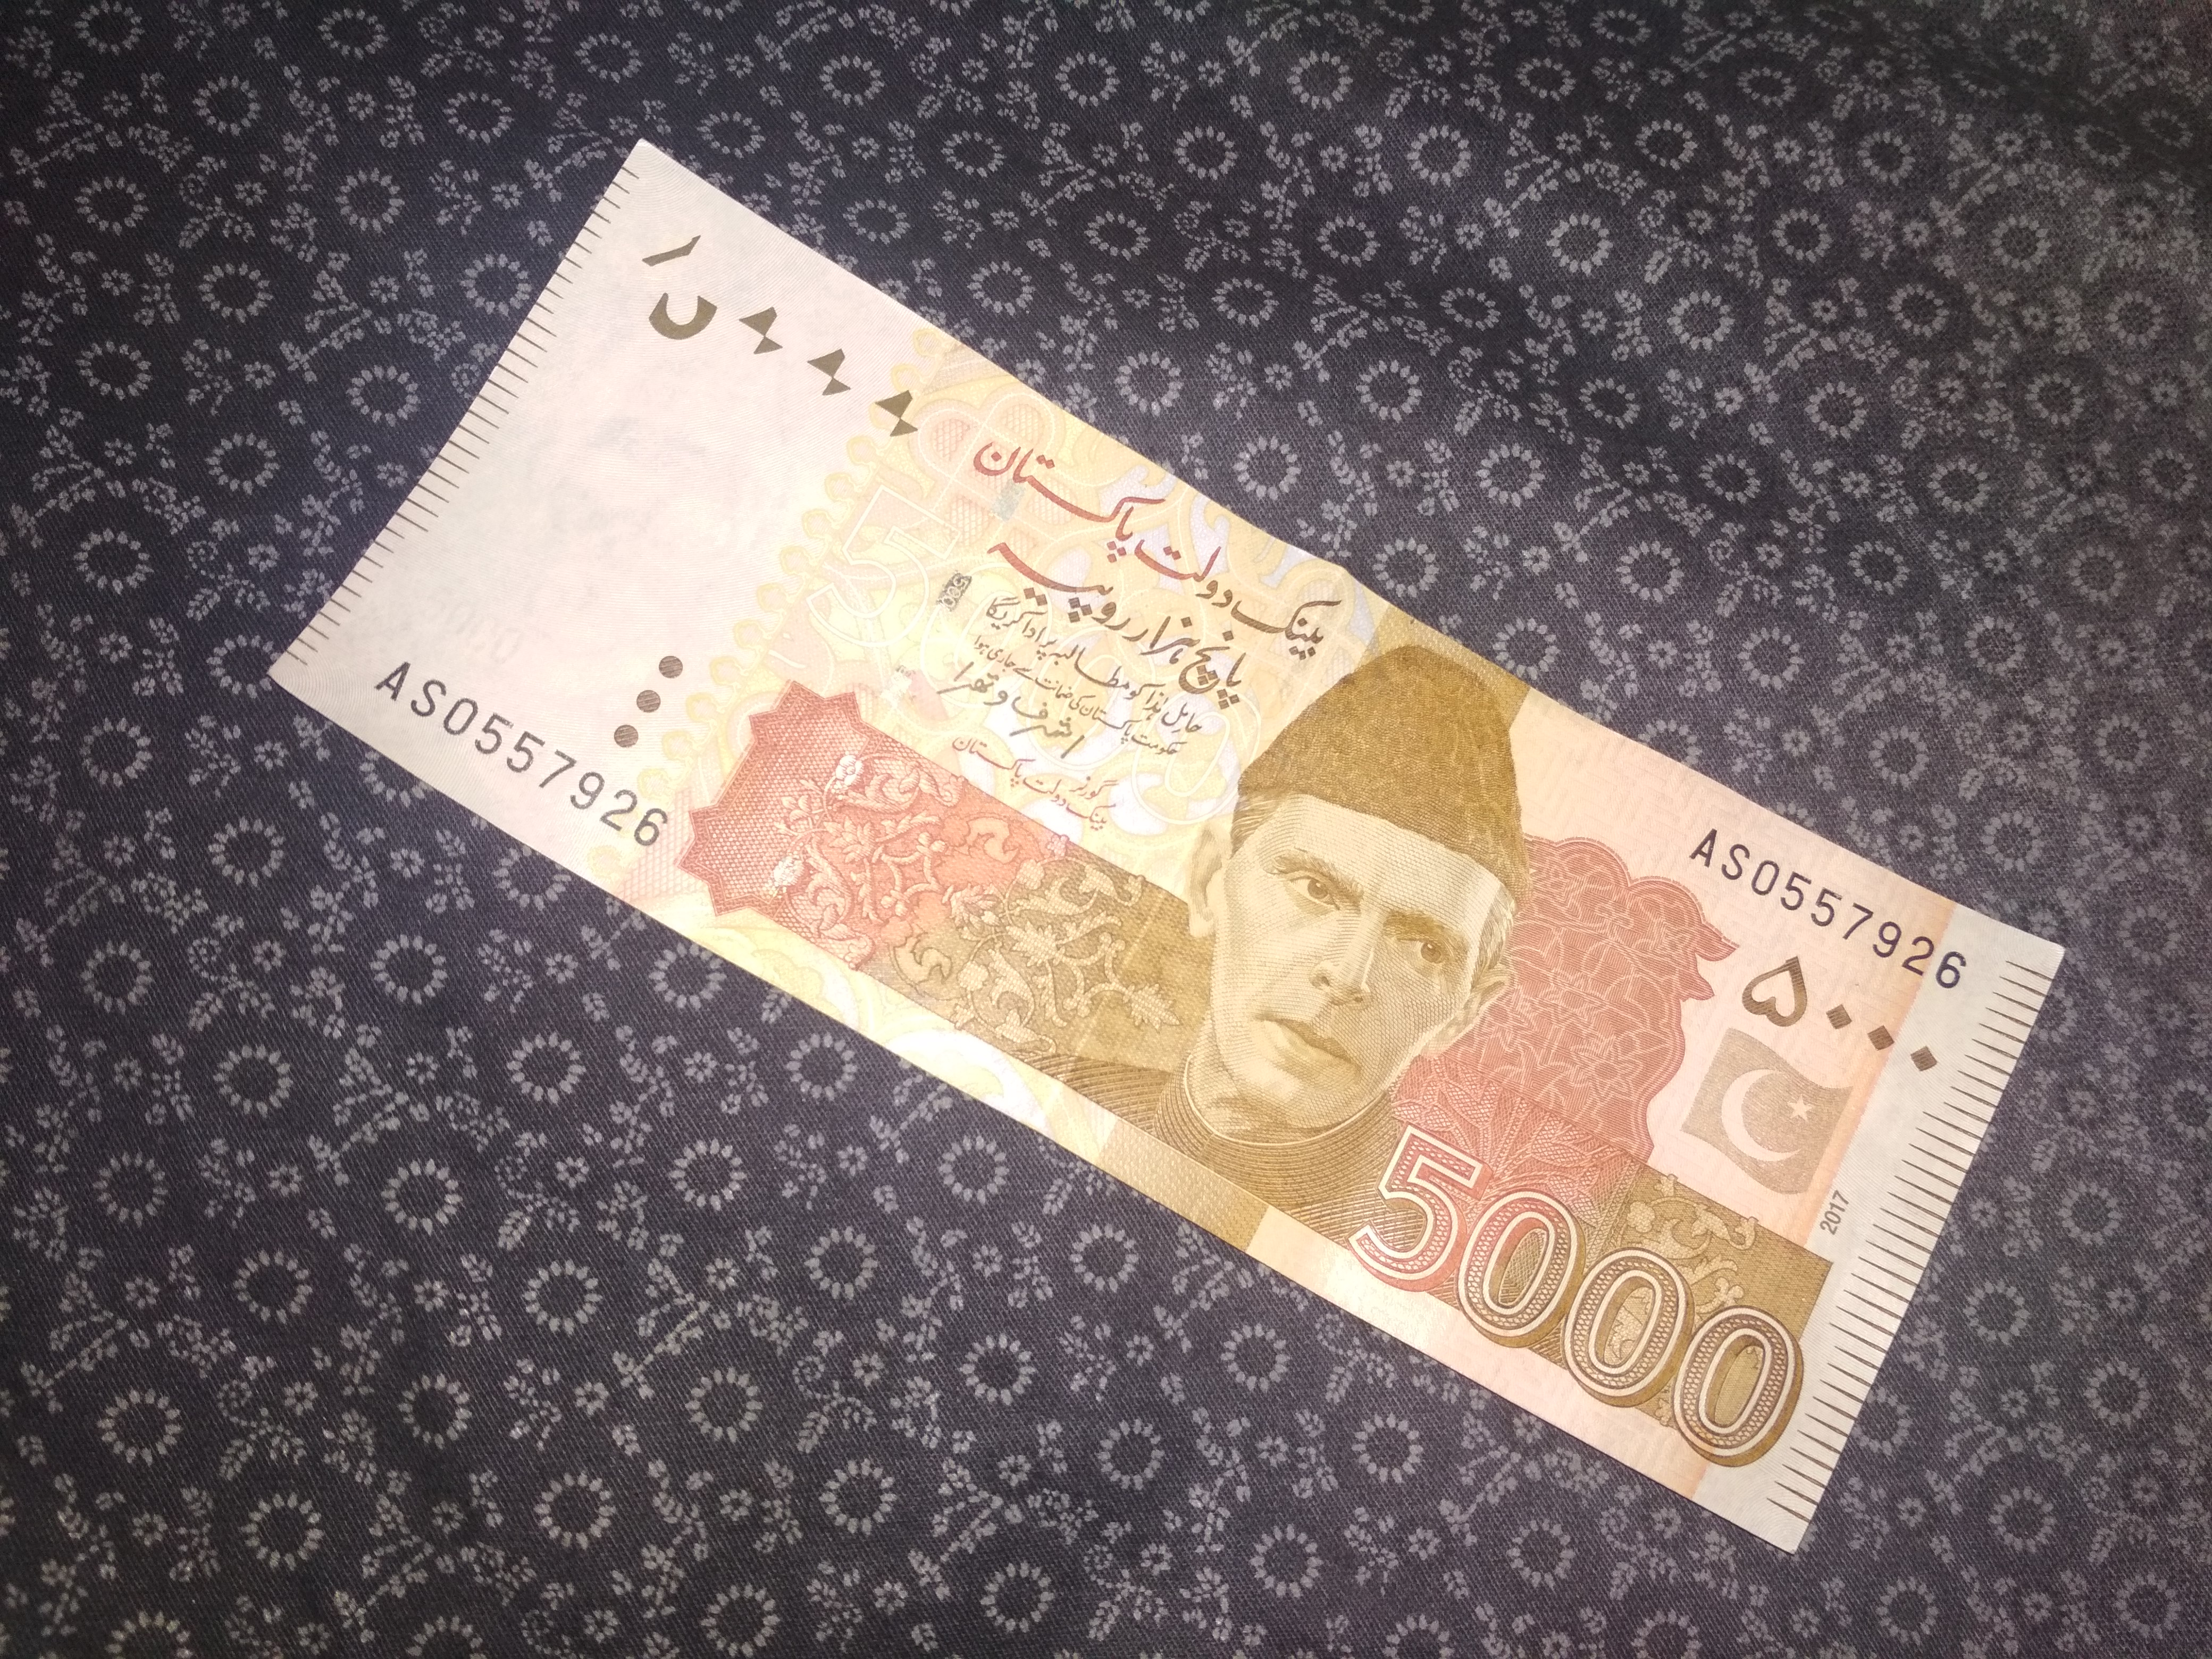5000 rupee: (270, 176, 2123, 1593)
